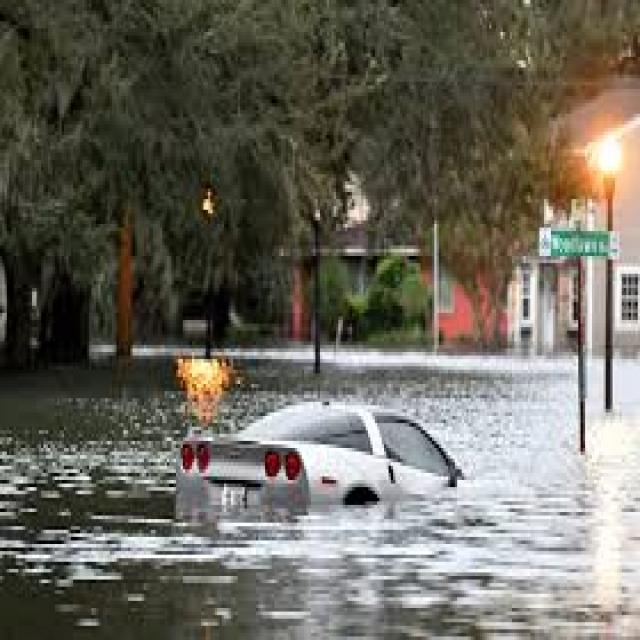FLOOD: (0, 356, 639, 639)
